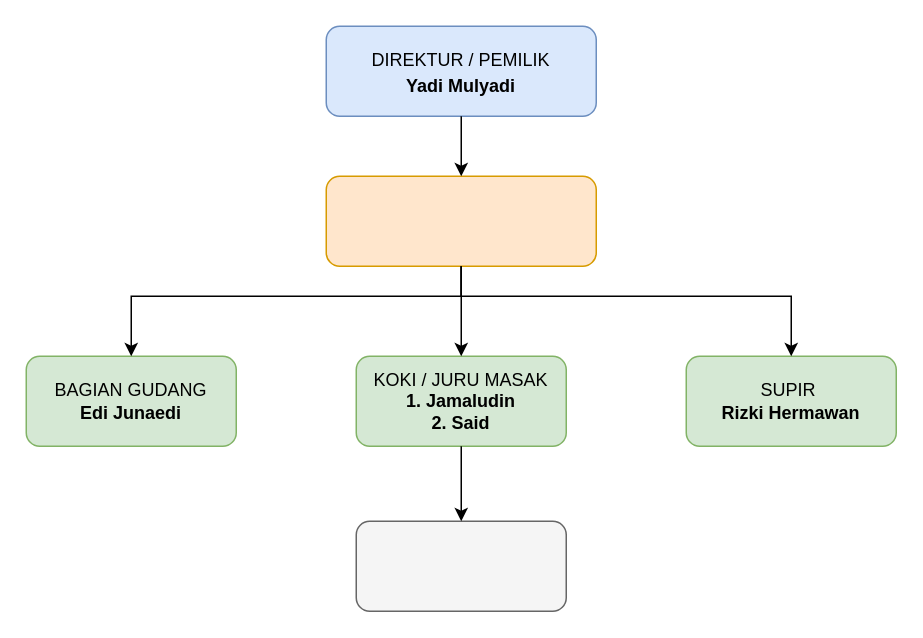
This 923x638 diagram has some shape labels left out. The box of each missing label's shape, as (x1, y1, x2, y2) in pixels:
HELPER DAPUR Kosasih Maryam Siti Umroh: (355, 520, 566, 611)
MANAJER OPERASIONAL Ina Yuliana: (325, 175, 596, 266)
